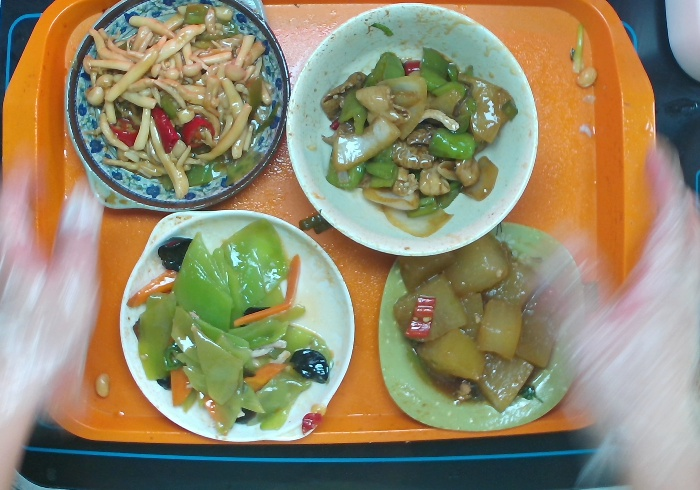NLDX-Bai_Se_Shuang_Er_Die: (113, 208, 351, 444)
NLDX-Bai_Se_Yuan_Wan: (285, 3, 536, 258)
NLDX-Lv_Hua_Fang_Die: (375, 226, 584, 434)
NLDX-Qing_Hua_Shuang_Er_Die: (62, 1, 285, 218)
